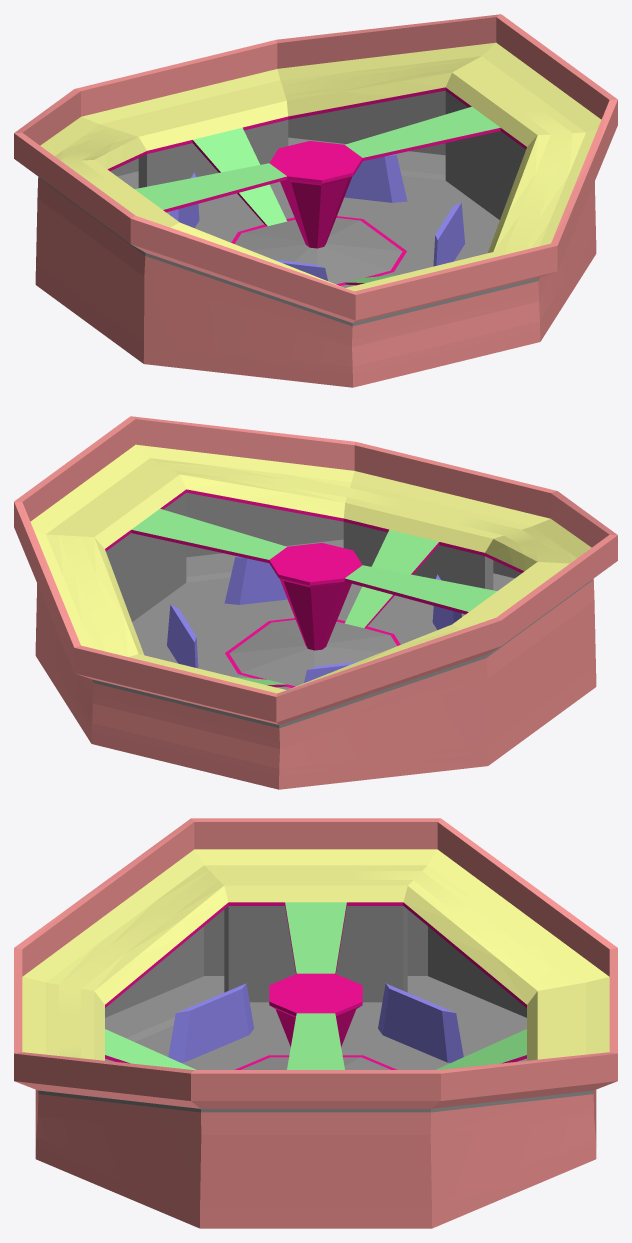
File: Arena.FBX
3 views of the same model, one above another, from view 1: azimuth 30°, elevation 25°; view 2: azimuth 150°, elevation 25°; view 3: azimuth 270°, elevation 25° (orthographic). The views are drawn at different scales.
Parts seen in each view (by area): view 1: NGon002; view 2: NGon002; view 3: NGon002.
Part boxes in pixels (x1=…): NGon002: x1=14, y1=14, x2=617, y2=387; NGon002: x1=14, y1=416, x2=617, y2=789; NGon002: x1=14, y1=818, x2=617, y2=1228.
Bounding box in the file's own units: 30068 × 9011 × 30068.
